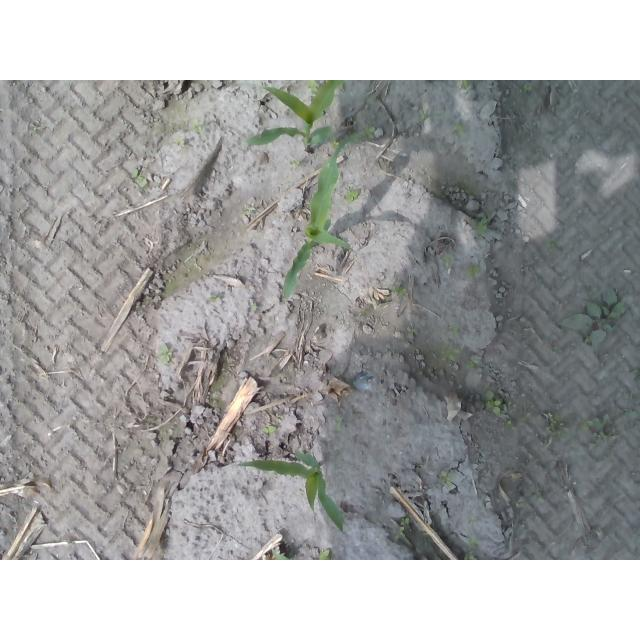Maize: (279, 130, 370, 300), (232, 447, 345, 533), (241, 81, 346, 156)
Weeds: (559, 287, 625, 350), (580, 419, 614, 447), (484, 392, 512, 424), (539, 412, 569, 436), (392, 515, 412, 542), (461, 536, 480, 561), (473, 214, 489, 234), (130, 168, 147, 186), (443, 349, 461, 363), (160, 344, 173, 363), (438, 471, 452, 487), (344, 189, 359, 203), (273, 548, 288, 561), (545, 239, 560, 252), (392, 285, 407, 298), (306, 81, 319, 95), (263, 424, 278, 436), (209, 292, 224, 304), (464, 359, 481, 369), (318, 548, 332, 560), (419, 108, 431, 120), (468, 265, 481, 276), (458, 80, 472, 90), (449, 324, 460, 336), (329, 137, 341, 148), (190, 122, 202, 132), (288, 159, 300, 168)
